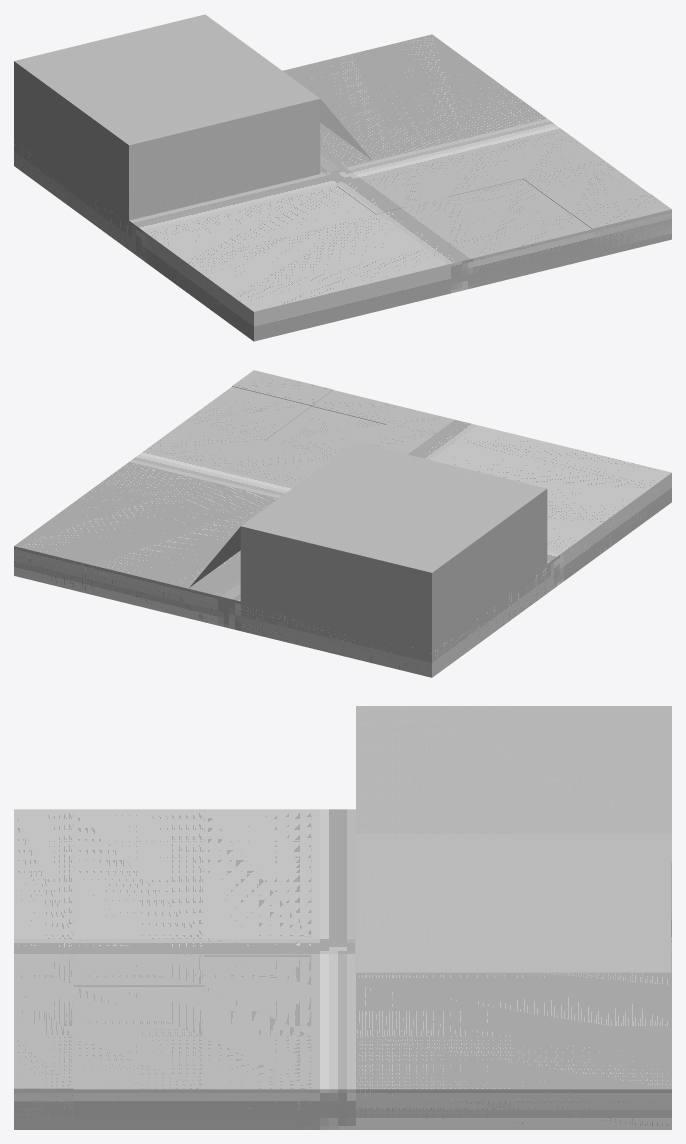
File: basicArena1.glb
3 views of the same model, one above another, from view 1: azimuth 30°, elevation 25°; view 2: azimuth 150°, elevation 25°; view 3: azimuth 270°, elevation 25° (orthographic). The views are drawn at different scales.
Parts seen in each view (by area): view 1: Cube; view 2: Cube; view 3: Cube.
Boxes of the visible parts, x1,y1,x2,y2 form: Cube: (14,14,671,341); Cube: (14,370,671,677); Cube: (14,706,671,1129).
Size of the model in its own units: 65.59 by 18.28 by 65.17.
1 material, 1 textured.
